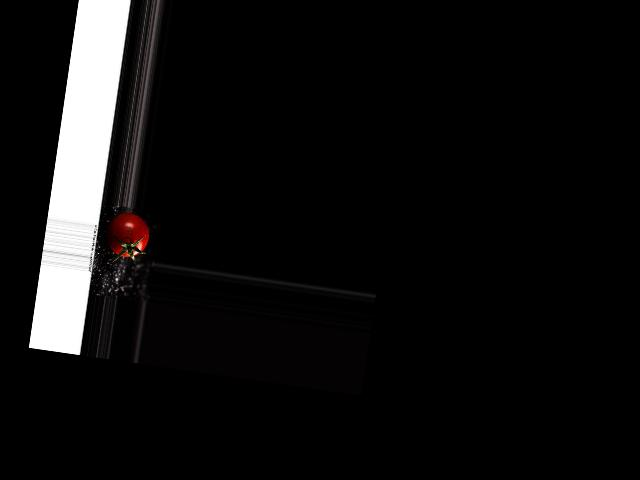tomato: (103, 210, 151, 259)
